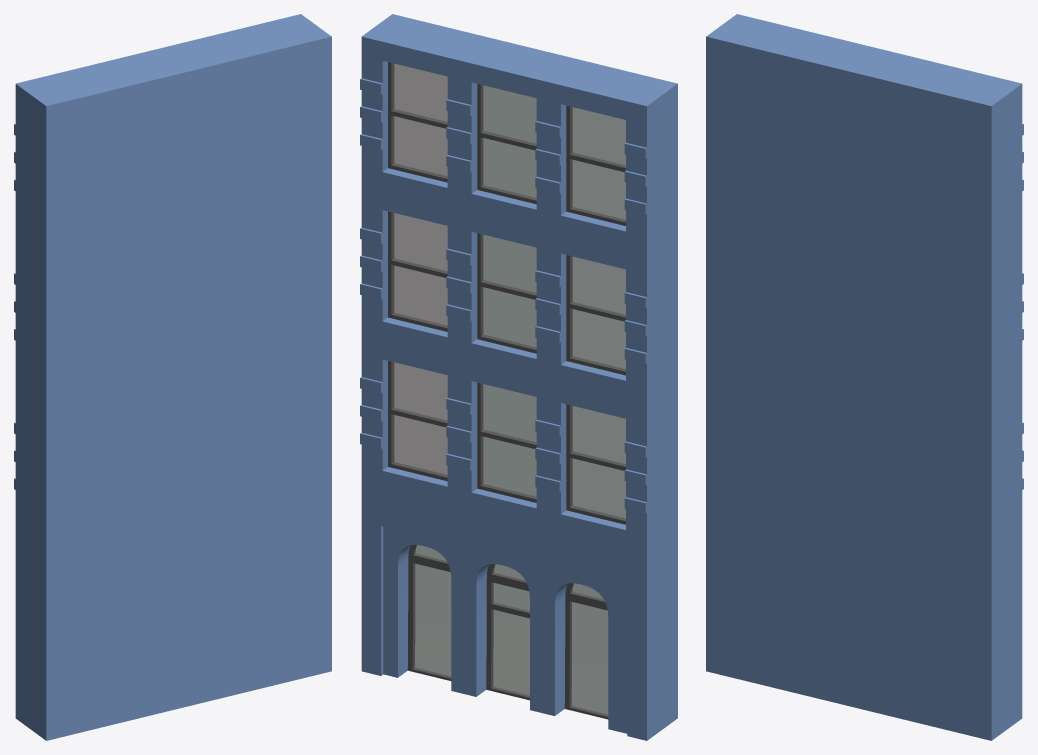
3 views of the same model, side by side, from view 1: azimuth 30°, elevation 25°; view 2: azimuth 150°, elevation 25°; view 3: azimuth 330°, elevation 25° (orthographic).
Visible parts, largest first — view 1: Facade009; view 2: Facade009; view 3: Facade009.
Part boxes in pixels (left/top/right/bottom): Facade009: left=14, top=14, right=331, bottom=740; Facade009: left=360, top=14, right=677, bottom=740; Facade009: left=706, top=14, right=1023, bottom=740.
Bounding box in the file's own units: 315 × 669 × 61.76.
